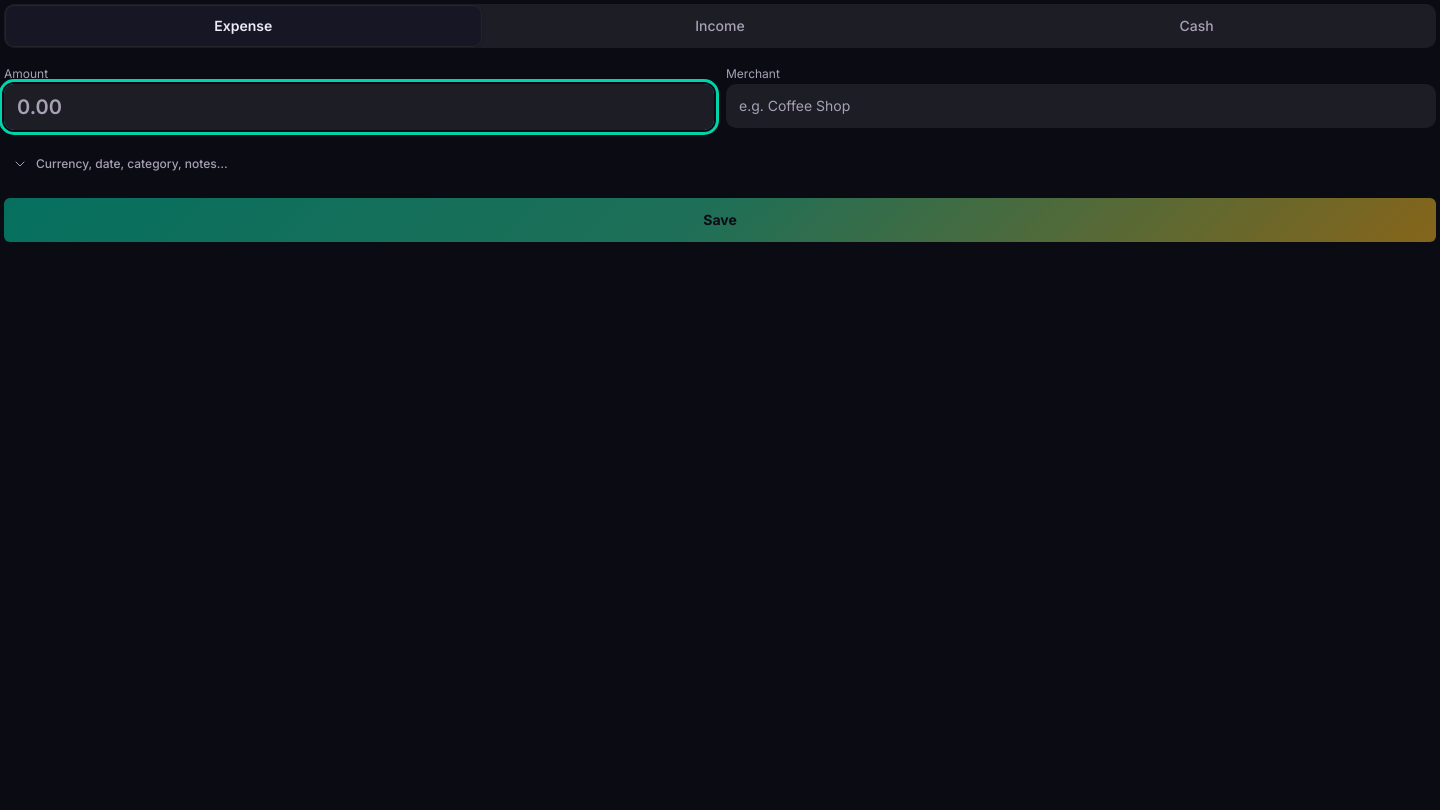
Test case: shows only amount and merchant until "More details" is opened
The image size is (1440, 810).
Expected: the field with placeholder "0.00" is shown, [4,84,714,130]
Expected: the field with placeholder "e.g. Coffee Shop" is shown, [726,84,1436,128]
Click the button "Currency, date, category, notes…" at (120, 164), box [4,142,236,186]
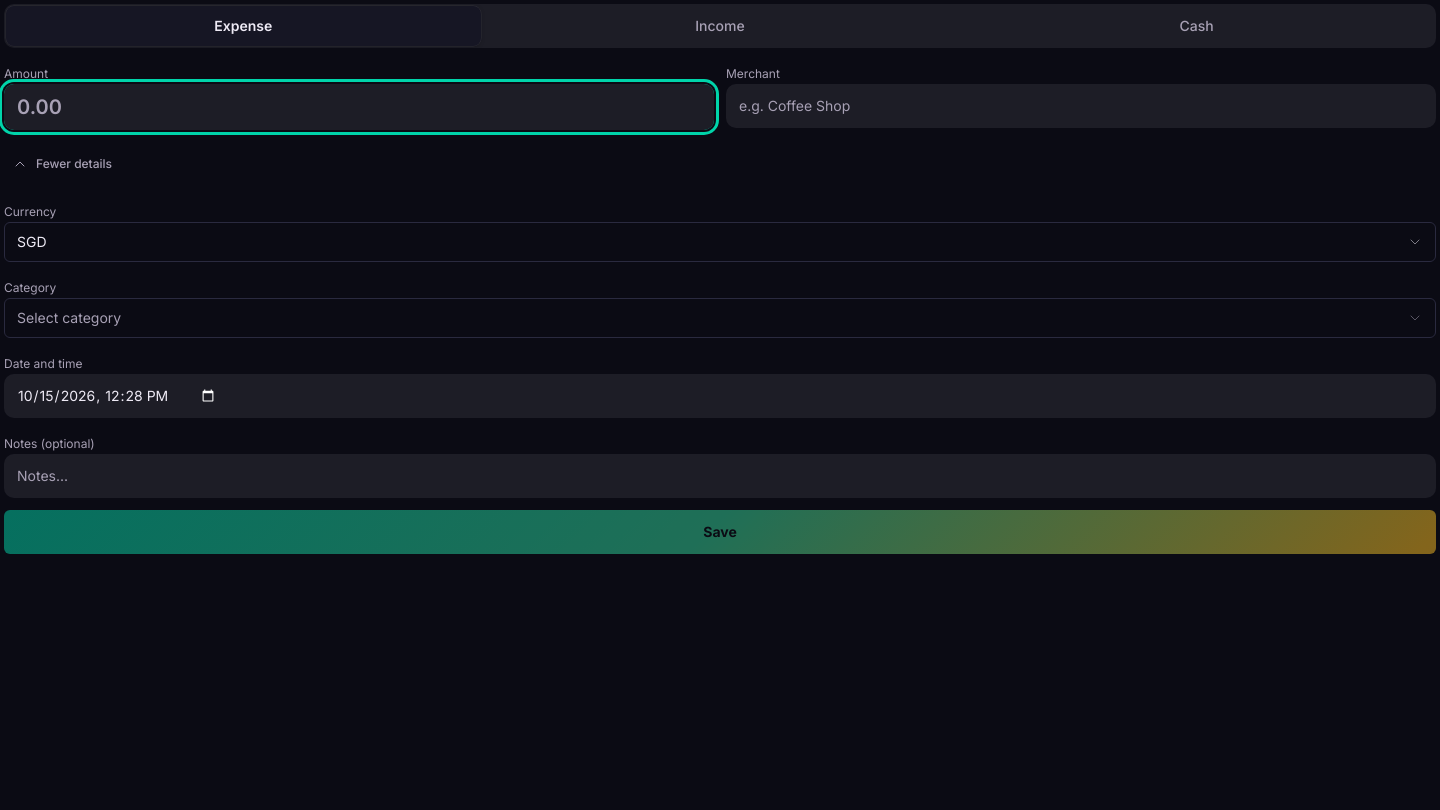
Expected: the text "Category" is shown, [4,280,56,295]
Expected: the text "Date and time" is shown, [4,356,82,371]
